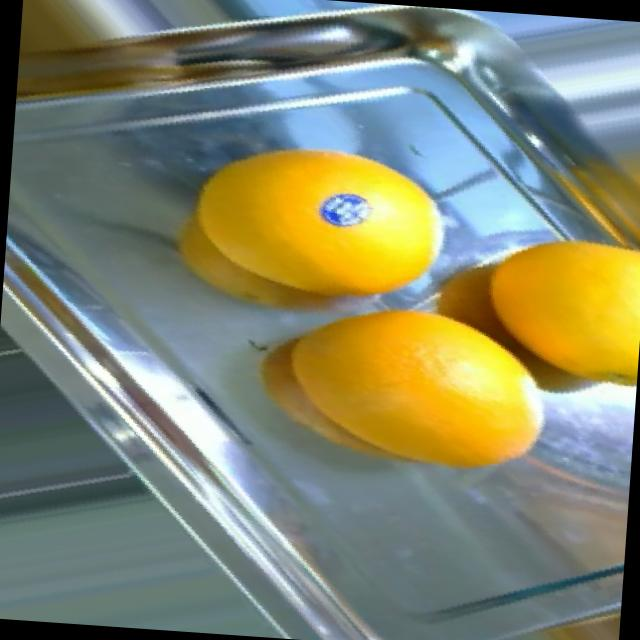Fruit: (136, 110, 354, 344)
